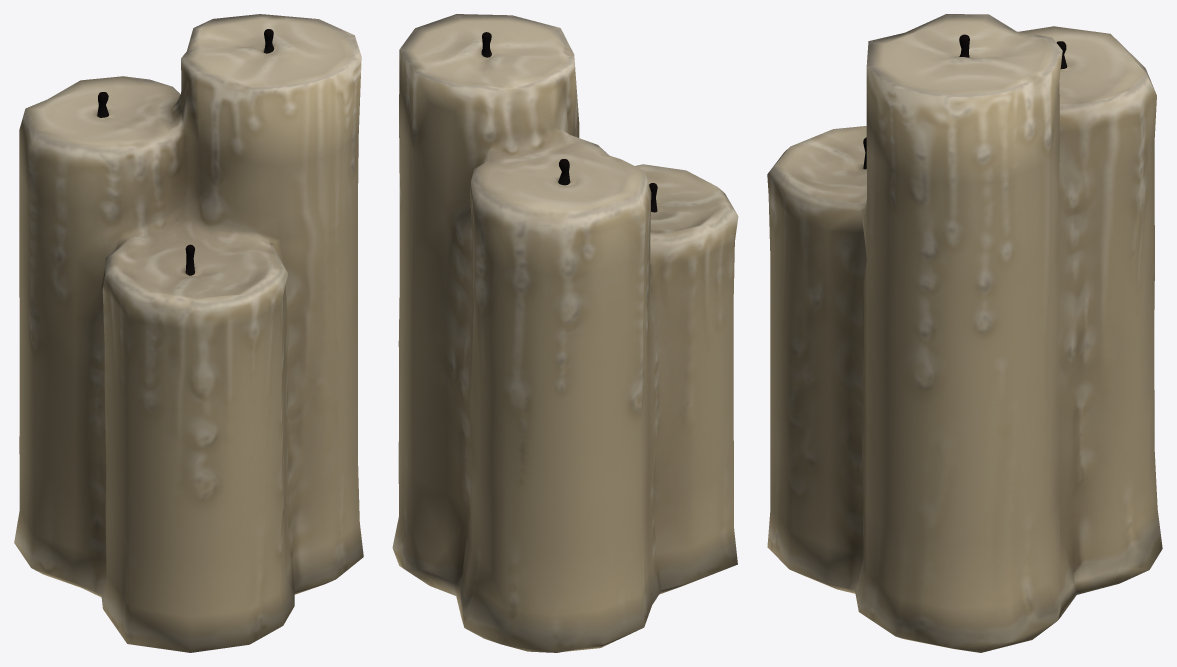
File: candle_01.fbx
3 renders of one model, left to right at view 1: azimuth 30°, elevation 25°; view 2: azimuth 150°, elevation 25°; view 3: azimuth 270°, elevation 25°, orthographic. The views are drawn at different scales.
Parts seen in each view (by area): view 1: Candle_001; view 2: Candle_001; view 3: Candle_001.
Boxes of the visible parts, left/top/right/bottom form: Candle_001: left=14, top=14, right=363, bottom=652; Candle_001: left=392, top=14, right=738, bottom=652; Candle_001: left=767, top=14, right=1162, bottom=652.
Bounding box in the file's own units: 79.03 × 141 × 87.45.
